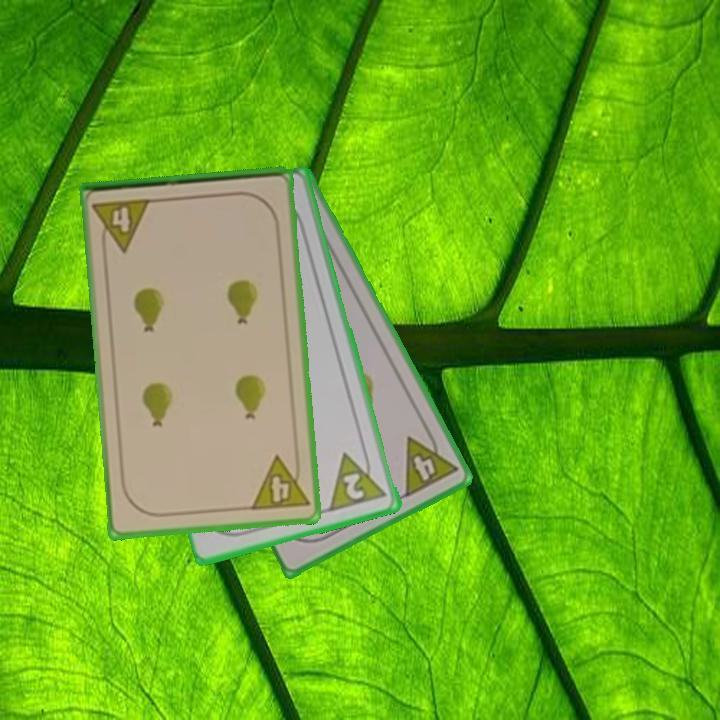2p: (326, 444, 390, 515)
4p: (401, 423, 461, 501), (247, 451, 312, 514), (89, 195, 154, 256)
